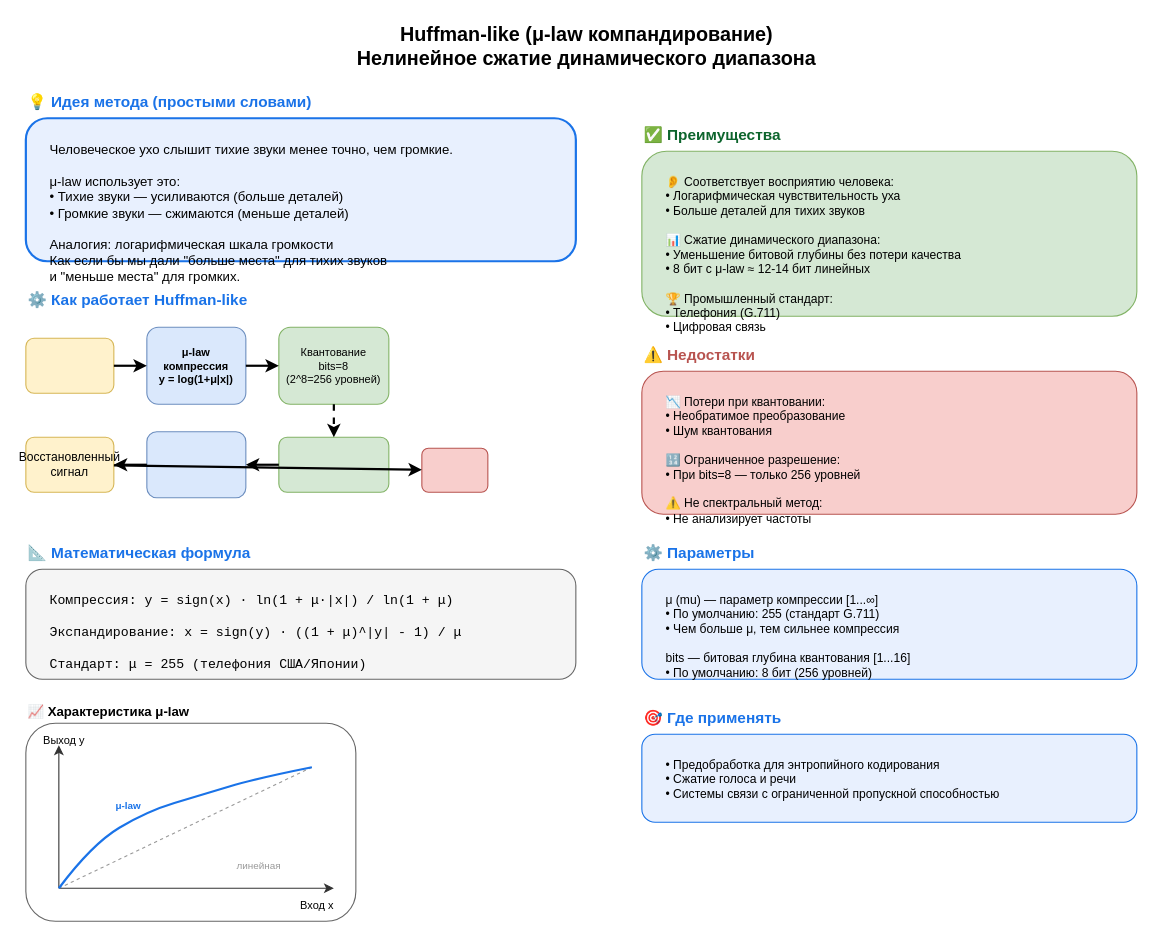
Some shapes in this 1156 by 941 pixel diagram are drawn without their labels. Each missing label, with the box of its shape:
MP3: (421, 447, 488, 492)
μ-law экспандирование x = ((1+μ)^|y|-1)/μ: (146, 431, 246, 498)
Входной сигнал x[n]: (25, 337, 114, 393)
Обратное квантование: (278, 436, 389, 492)
